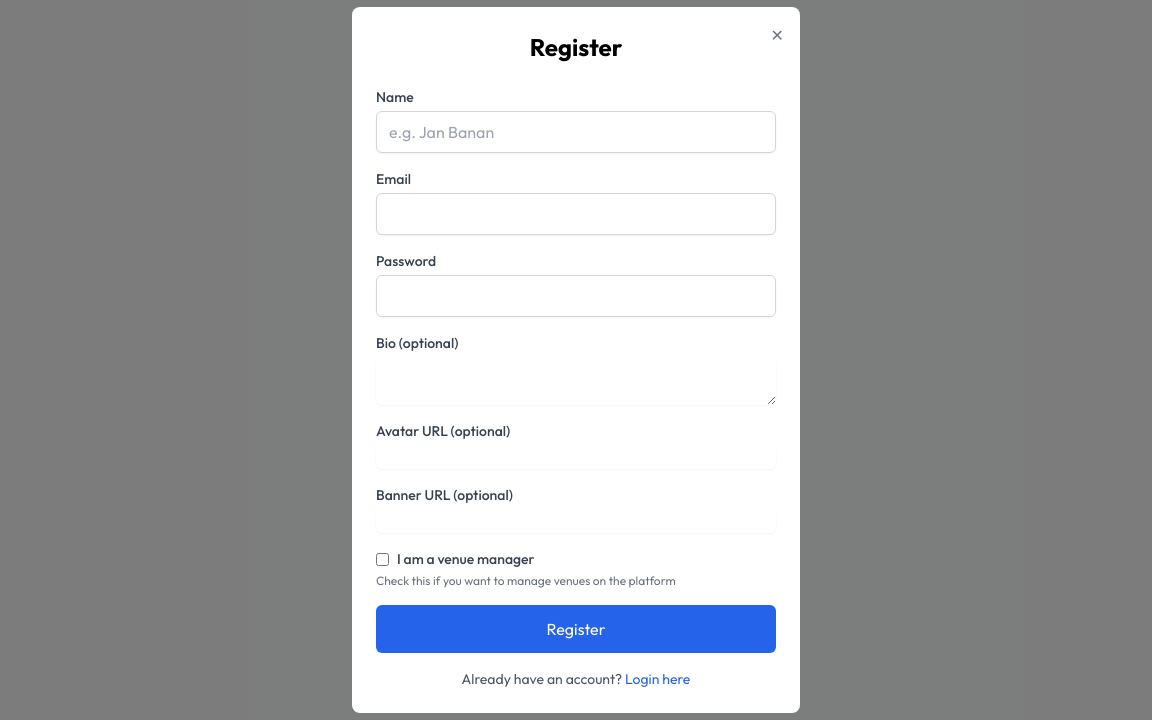
Scenario: AuthModal Integration Tests › Mode Switching › switches from register to login mode
The image size is (1152, 720).
Check: the heading "Register" is shown, box [530,32,622,62]
Click the button "Login here": (658, 679) [625,669,690,689]
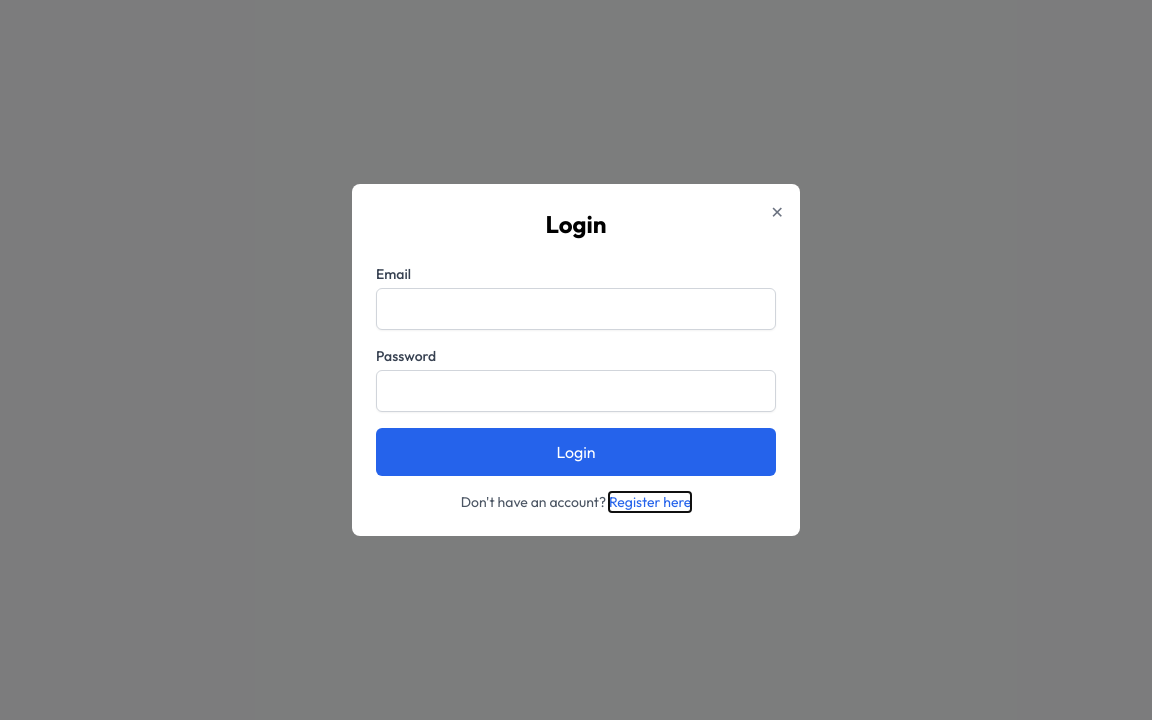
Check: the heading "Login" is shown, box [545,209,606,239]
Check: the text "Name" is gone
